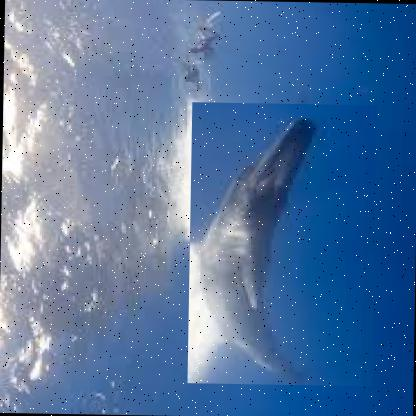blue_whale: (186, 101, 377, 386)
